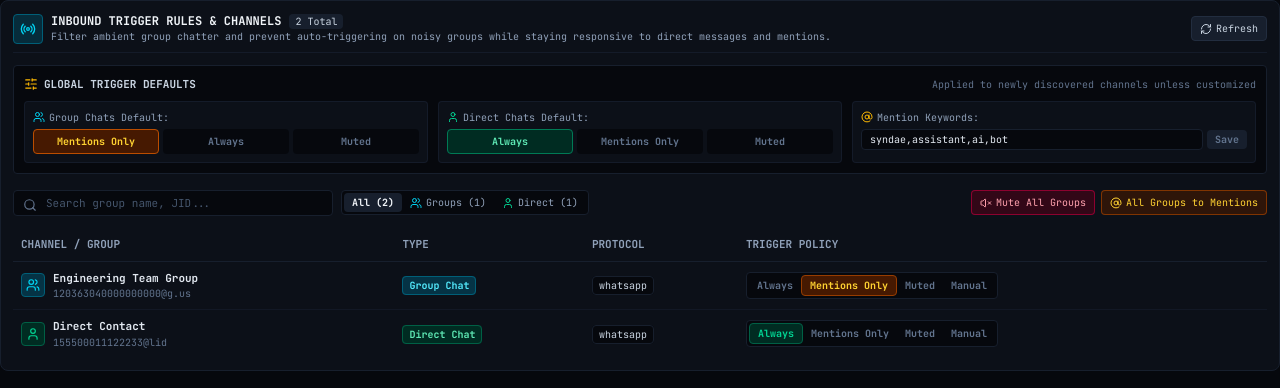
Test: ChannelTriggerMatrix Component › filters channels by search query and type filter
Expected: the text "Engineering Team Group" is shown, [53, 270, 198, 286]
Type "Engineering" into the field with placeholder "Search group name, JID..." at (173, 203), box [13, 190, 333, 216]
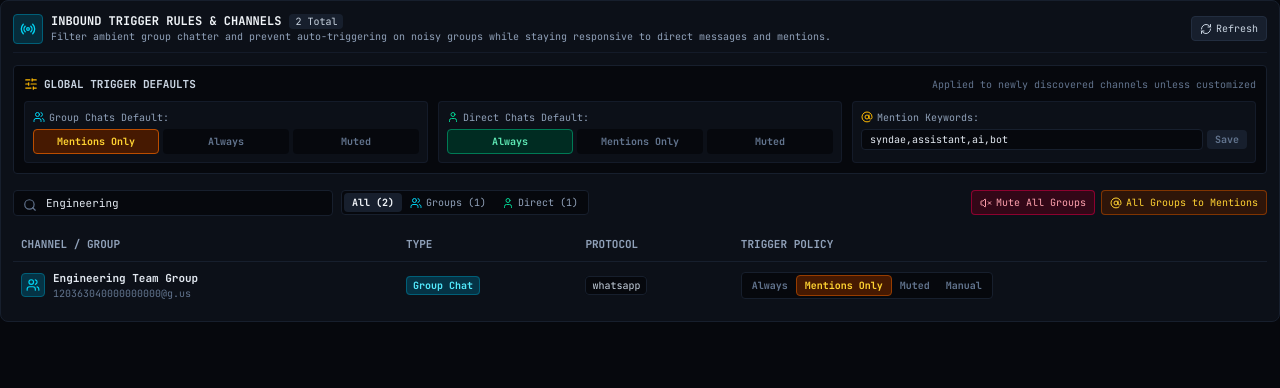
Expected: the text "Engineering Team Group" is shown, [53, 270, 198, 286]
Result: the text "Direct Contact" is gone
# Clear search and test Direct filter
Clear the 2nd field with placeholder "Search group name, JID..." at (173, 203), box [13, 190, 333, 216]
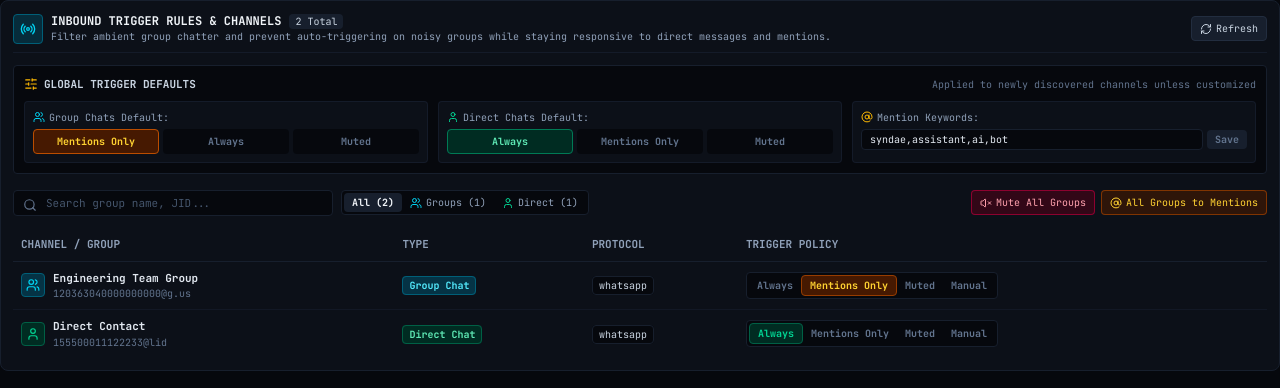
Click the button "Direct (1)" at (540, 203), box [494, 193, 586, 212]
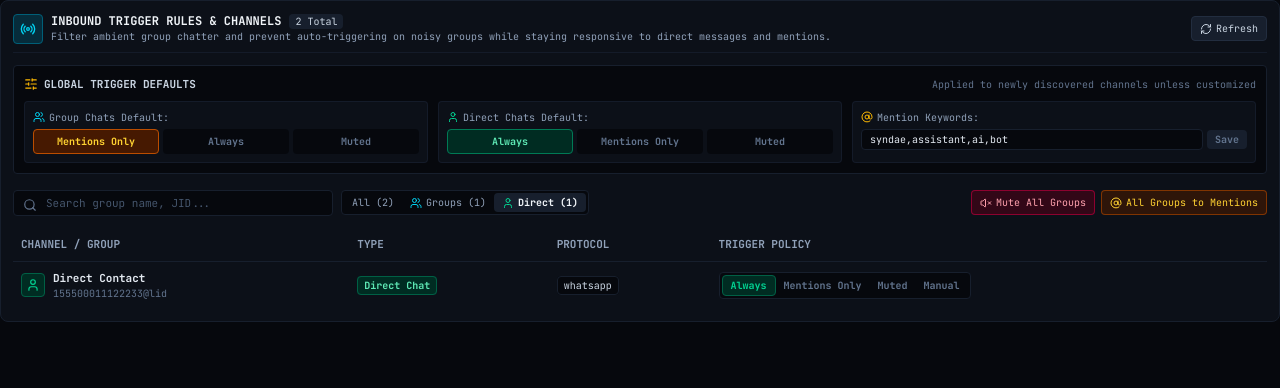
Result: the text "Direct Contact" is shown at [53, 270, 145, 284]
Result: the text "Engineering Team Group" is gone
